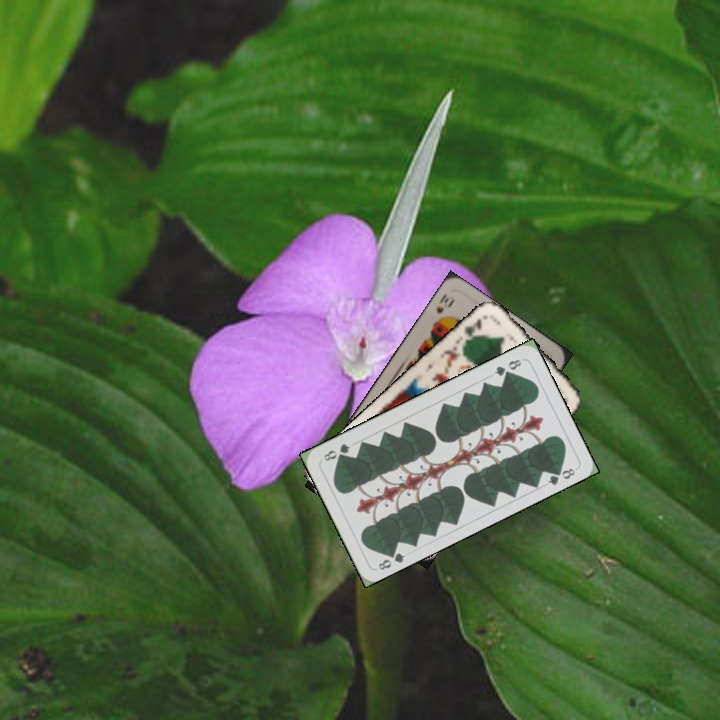G8: (374, 545, 408, 573), (490, 355, 524, 379)
GK: (460, 314, 485, 347)
S10: (430, 289, 457, 326)
